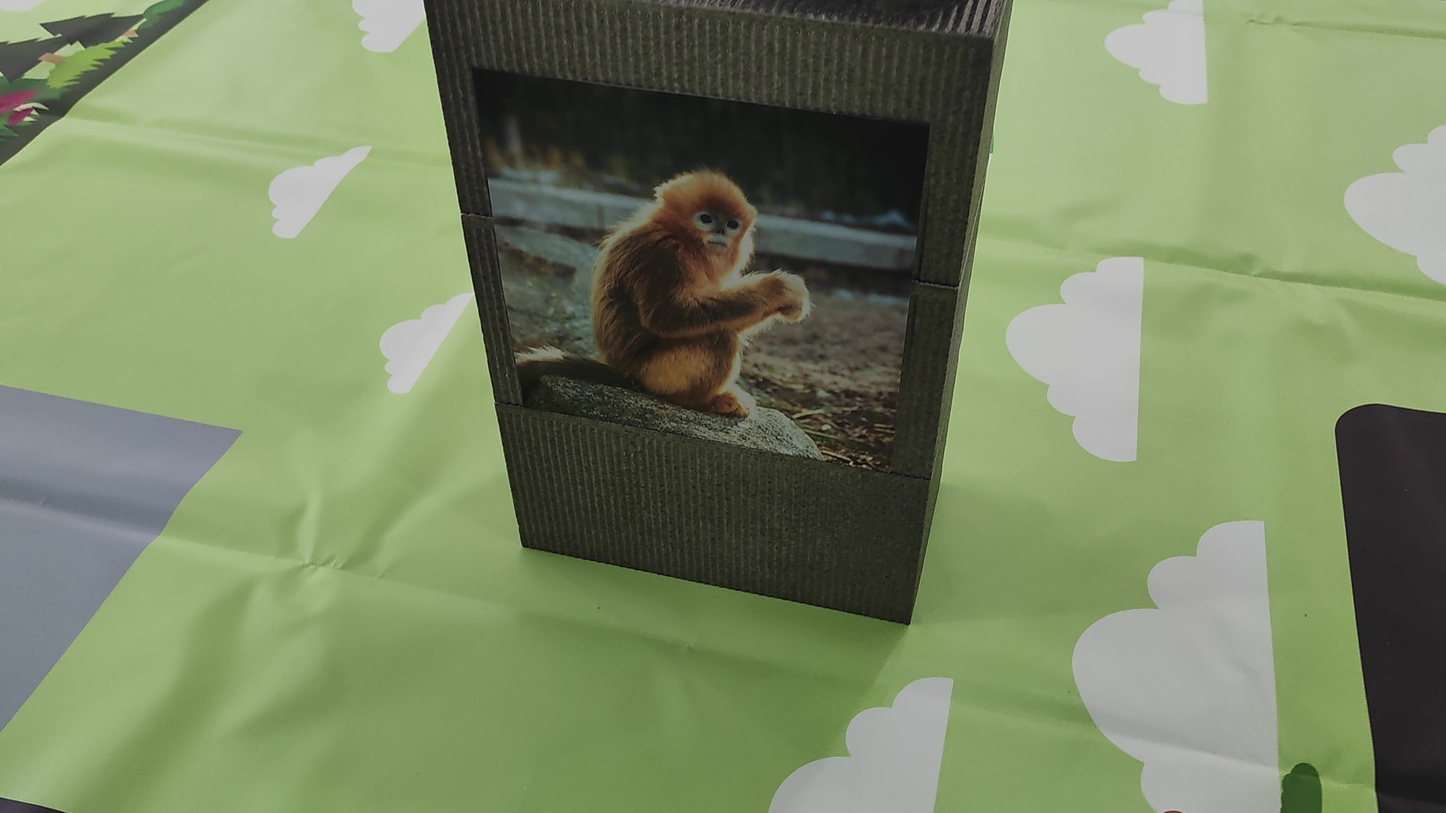monkey: (545, 151, 839, 453)
